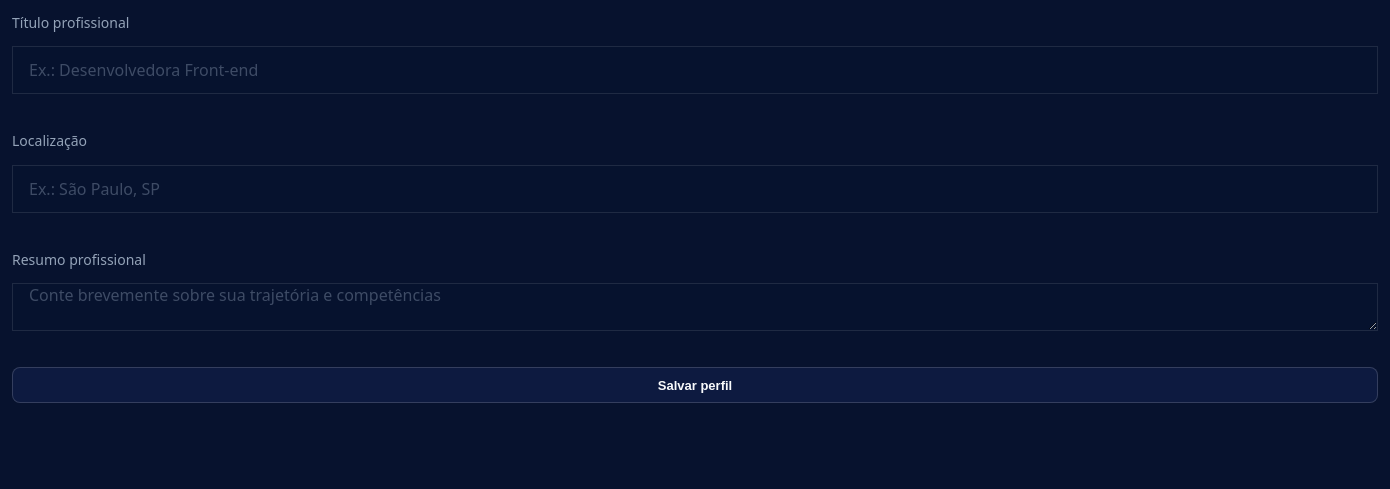
Test: CandidateProfileForm — Edição de Perfil do Candidato › exibe mensagem de erro quando a ação falha
Click the button "Salvar perfil" at (695, 385), box [12,367,1378,403]
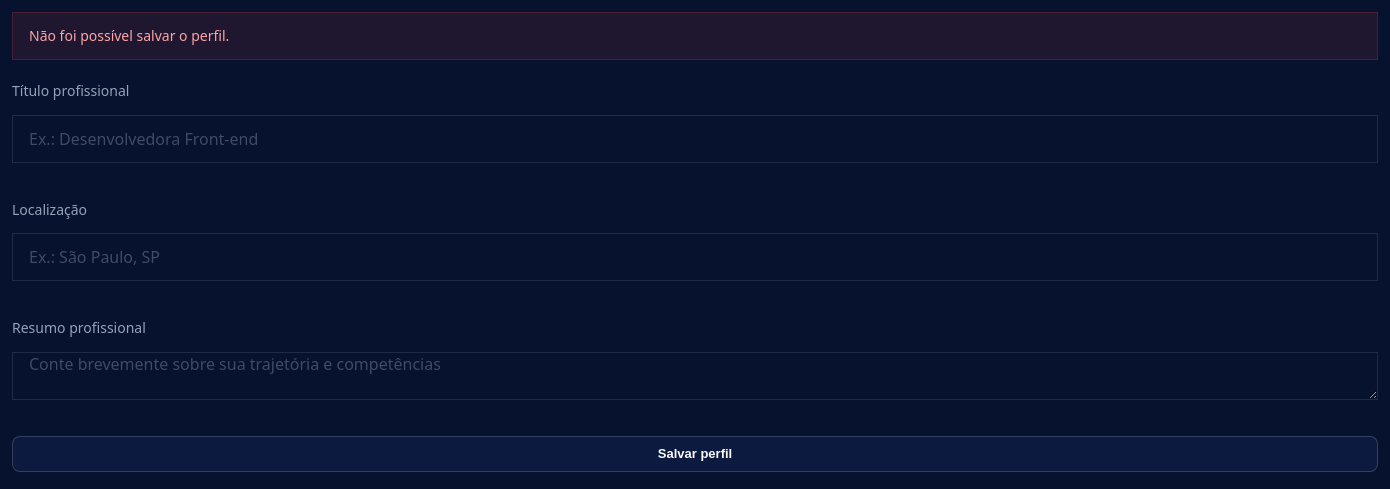
Result: the text "Não foi possível salvar o perfil." is shown at [12,12,1378,60]
